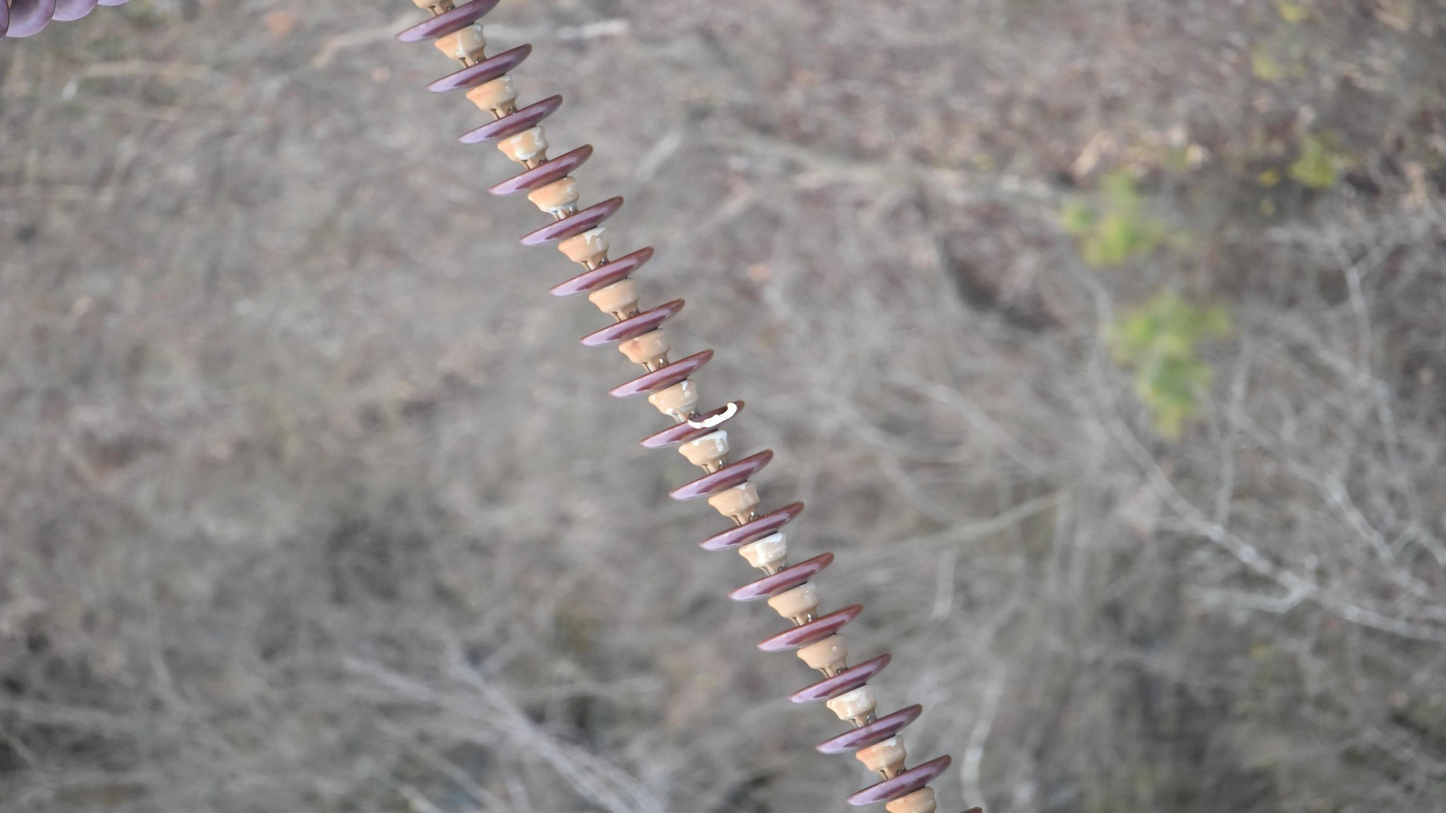insulator: (390, 1, 997, 813), (1, 1, 155, 48)
insulator_breakage: (684, 398, 740, 432)
